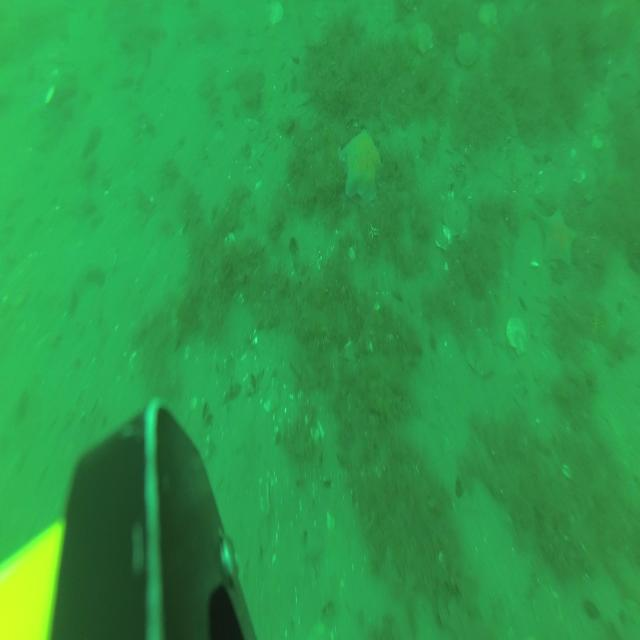scallop: (465, 328, 498, 380), (442, 195, 470, 240), (505, 312, 530, 358), (455, 28, 480, 69), (410, 18, 436, 57), (476, 3, 501, 36), (267, 0, 285, 26)
starfish: (340, 127, 382, 206), (537, 204, 578, 270)
